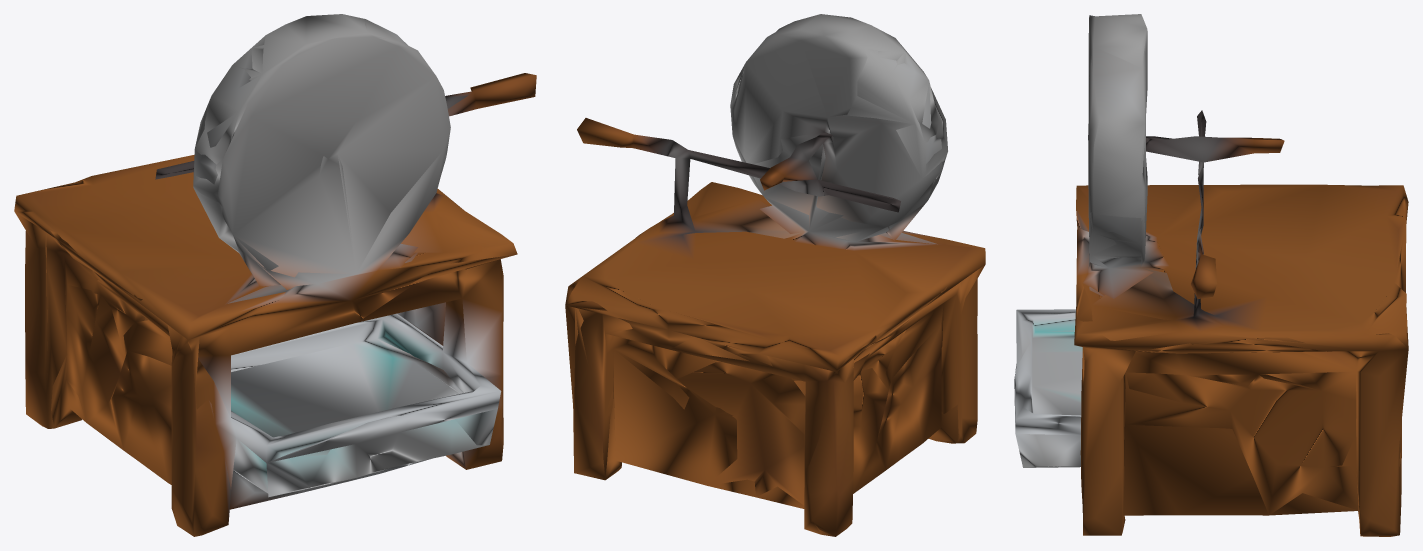
Rendered from gen3d-grindstone-lod0.glb.
3 renders of one model, left to right at view 1: azimuth 30°, elevation 25°; view 2: azimuth 150°, elevation 25°; view 3: azimuth 270°, elevation 25°, orthographic. The views are drawn at different scales.
Visible parts, largest first — view 1: part_0; view 2: part_0; view 3: part_0.
Part boxes in pixels (left/top/right/bottom): part_0: left=14, top=14, right=536, bottom=536; part_0: left=565, top=14, right=985, bottom=536; part_0: left=1014, top=14, right=1408, bottom=536.
Bounding box in the file's own units: 0.9274 × 0.9913 × 0.815.
